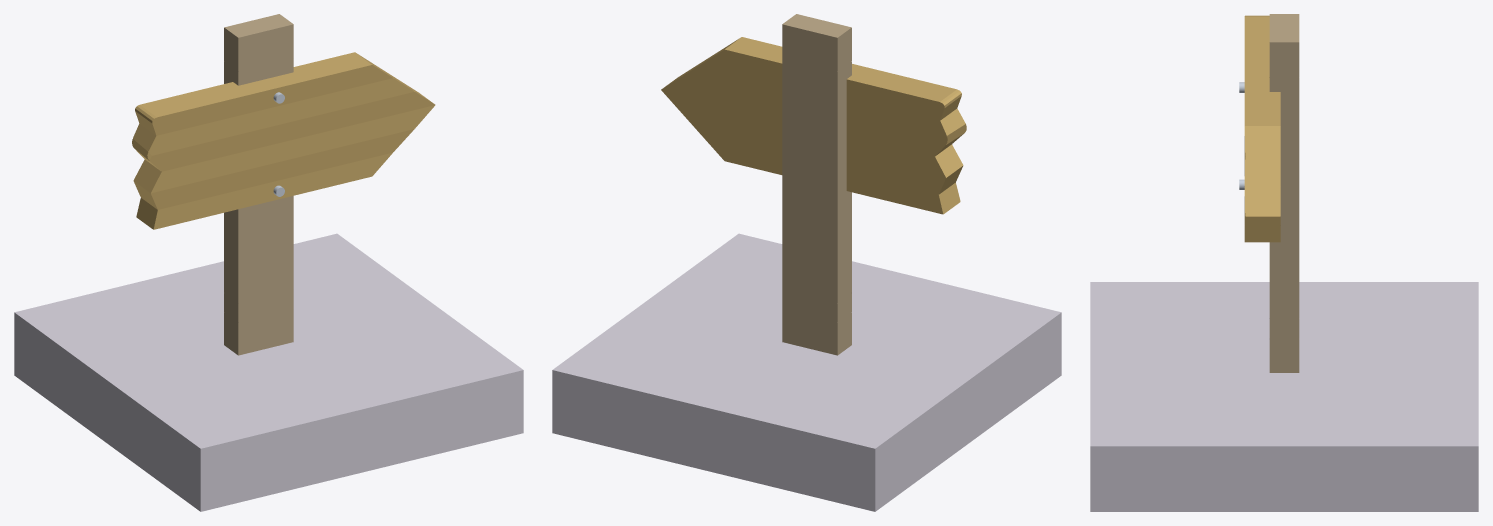
File: desert_sign.fbx
3 renders of one model, left to right at view 1: azimuth 30°, elevation 25°; view 2: azimuth 150°, elevation 25°; view 3: azimuth 270°, elevation 25°, orthographic. The views are drawn at different scales.
Visible parts, largest first — view 1: Cube.032, sign; view 2: Cube.032, sign; view 3: Cube.032, sign.
Part boxes in pixels (left/top/right/bottom): Cube.032: left=14, top=233, right=523, bottom=511; sign: left=132, top=14, right=435, bottom=355; Cube.032: left=552, top=233, right=1061, bottom=511; sign: left=661, top=14, right=966, bottom=355; Cube.032: left=1090, top=282, right=1478, bottom=511; sign: left=1239, top=14, right=1299, bottom=372.
Bounding box in the file's own units: 130 × 146 × 130.
